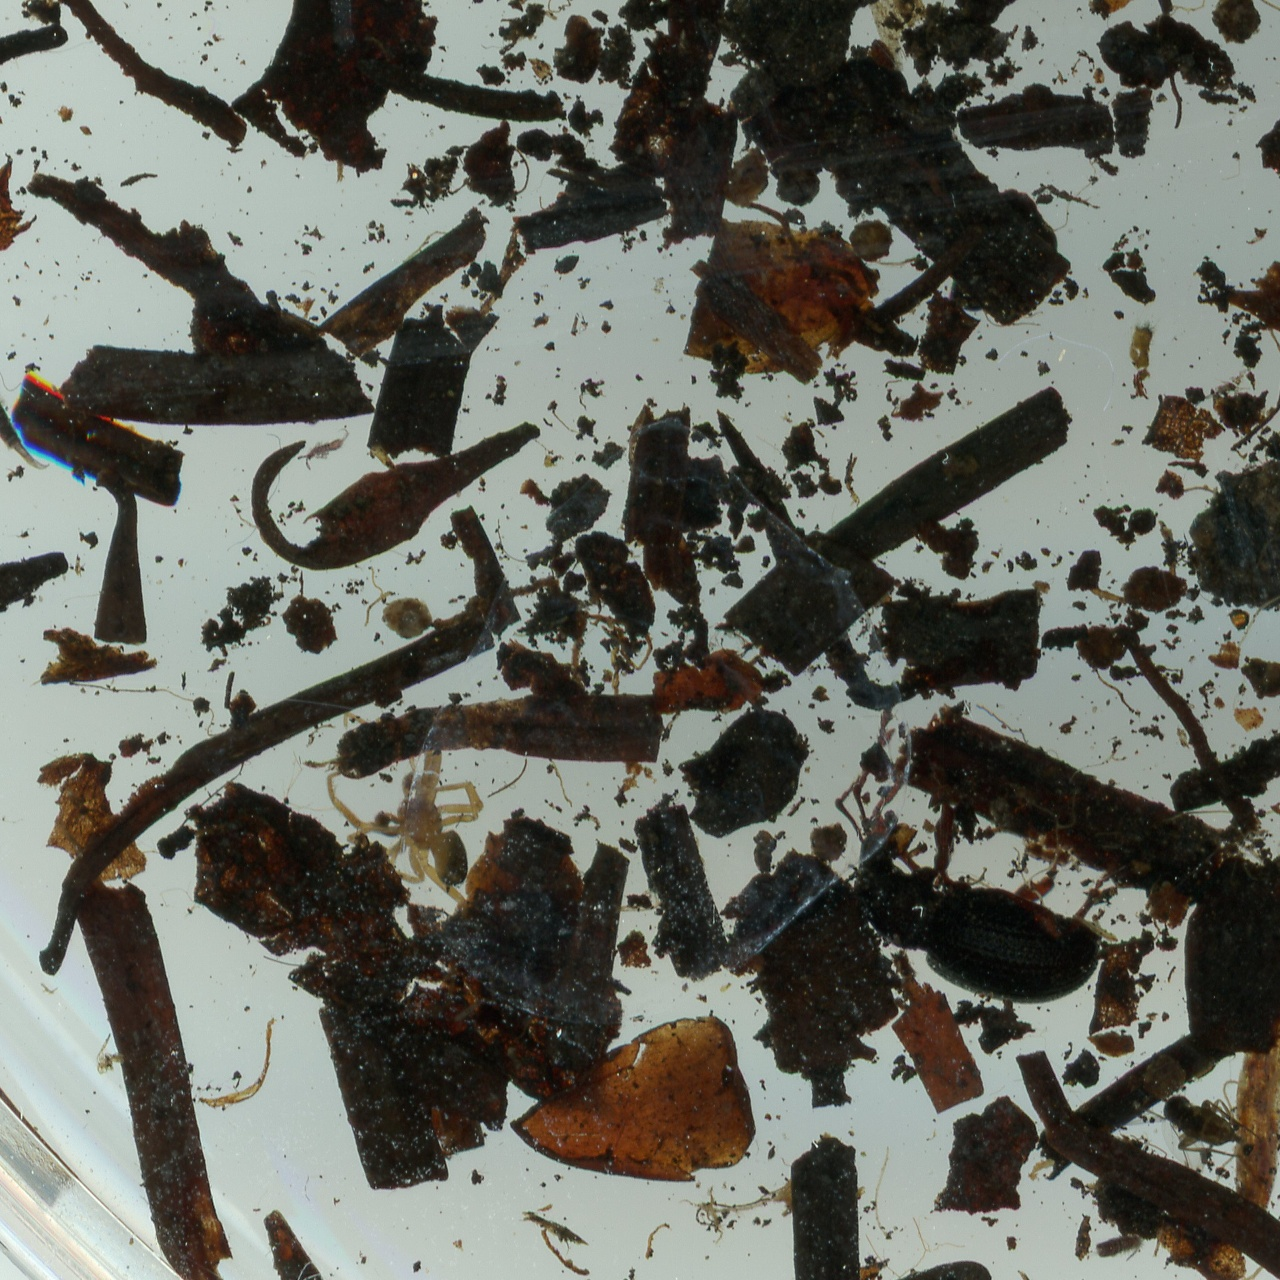arthropod: (853, 833, 1102, 1003), (329, 775, 493, 907), (1159, 1092, 1247, 1159), (0, 356, 48, 474), (295, 424, 360, 467)
